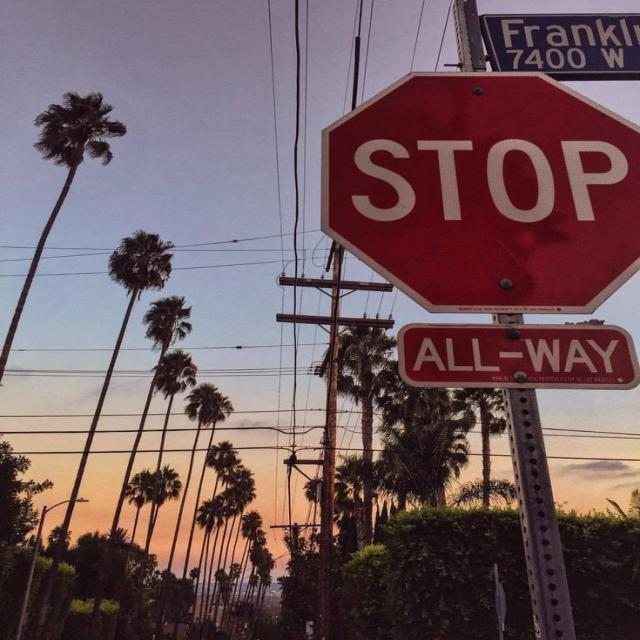stop: (319, 69, 639, 315)
